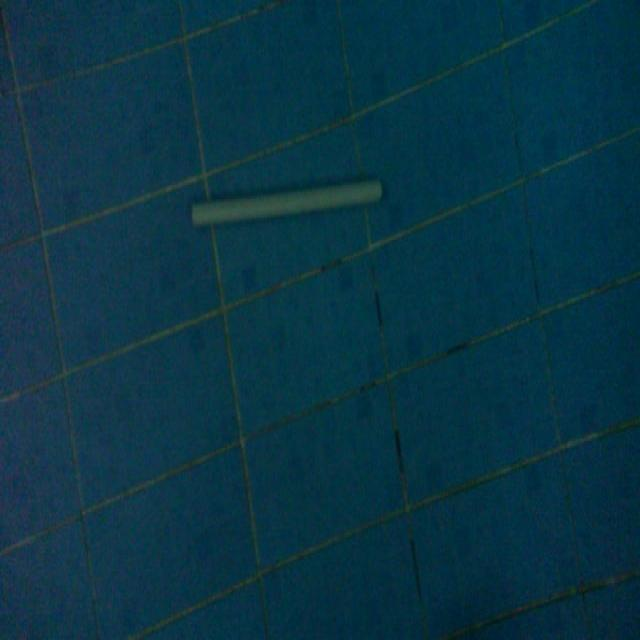Cube: (189, 173, 384, 231)
